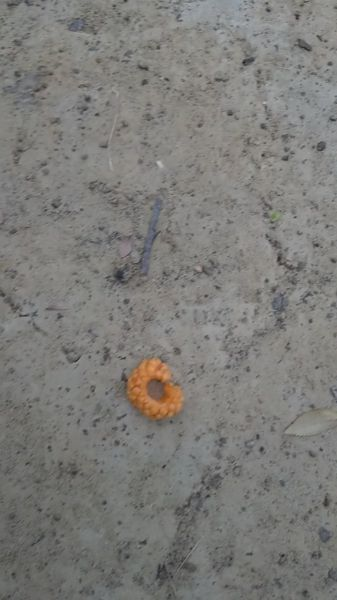eggs: (124, 355, 194, 427)
